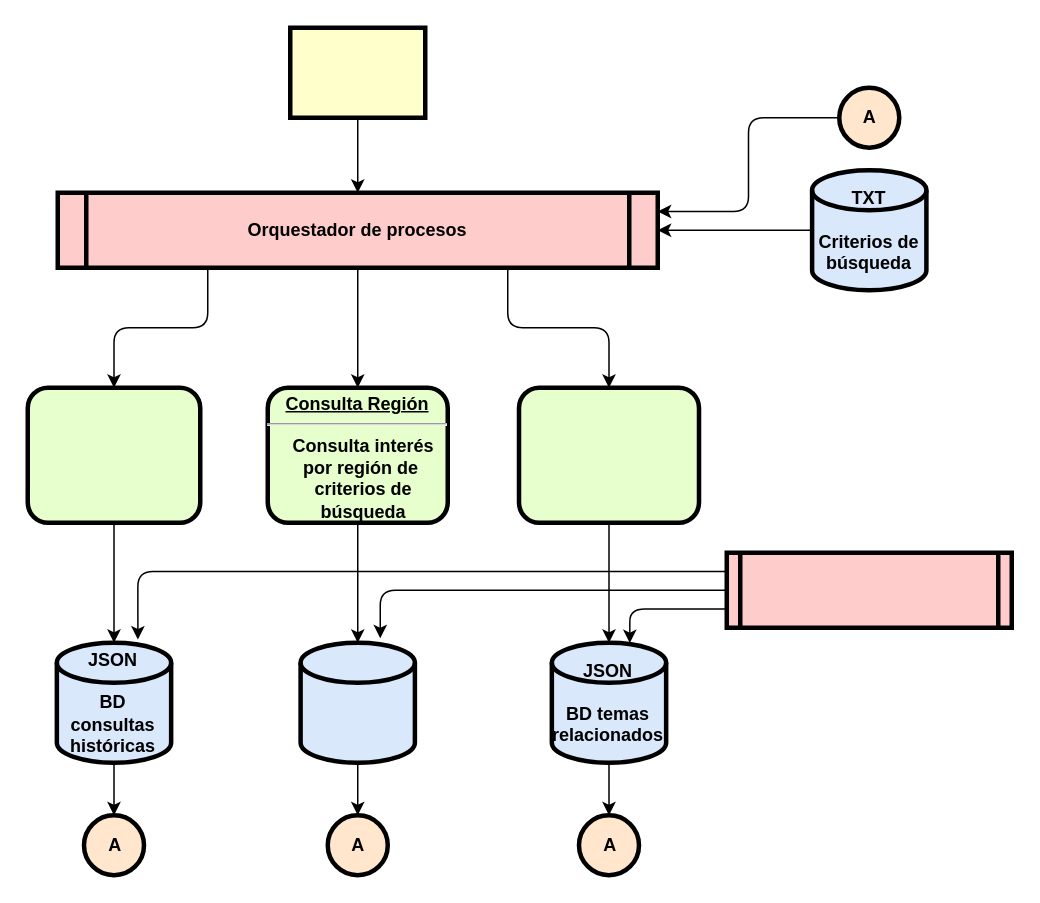
This 1040x903 diagram has some shape labels left out. Here are the shapes that lost their labels. From the top down, the box of each, then its label:
(287, 25, 427, 119): Usuario
(25, 385, 202, 524): Consulta H istórica Consulta interés anual de criterios de búsqueda
(516, 385, 700, 524): Temas relacionados Consulta temas relacionados con el criterio de búsqueda dado
(724, 550, 1013, 629): Generador de respaldos
(298, 640, 416, 764): JSON BD consultas por región
